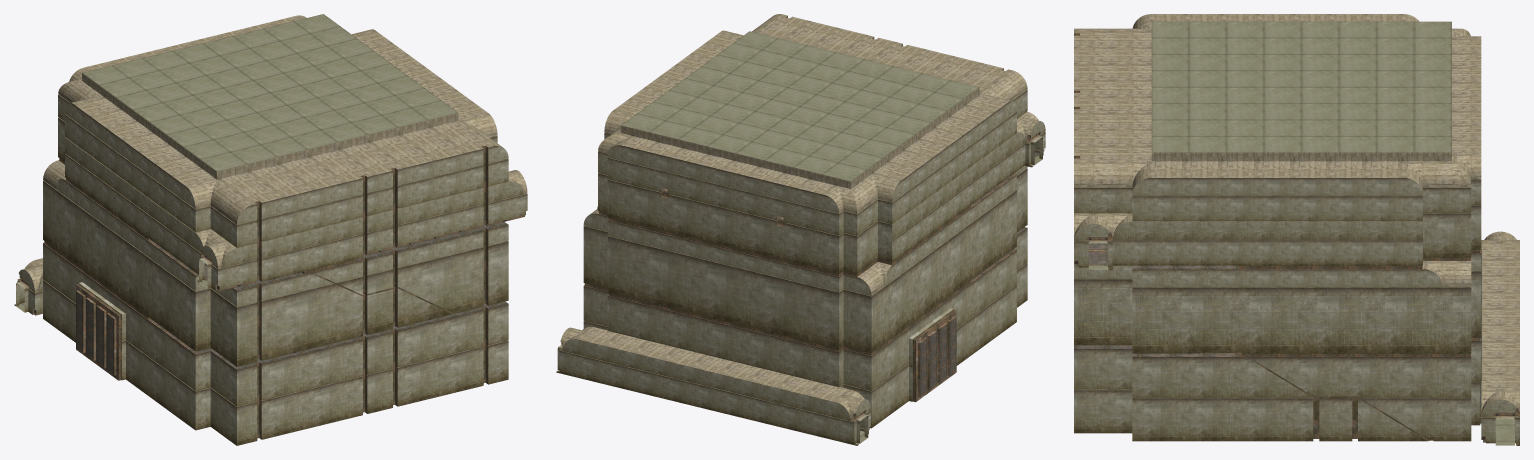
The model's file is poi_all_bunker_allum_mine_r24_storageroom24_mesh_r24.fbx.
The picture shows the model from 3 angles, left to right: view 1: azimuth 30°, elevation 25°; view 2: azimuth 150°, elevation 25°; view 3: azimuth 270°, elevation 25°; orthographic projection. The views are drawn at different scales.
Visible parts, largest first — view 1: mesh_node; view 2: mesh_node; view 3: mesh_node.
Boxes of the visible parts, x1,y1,x2,y2 form: mesh_node: [14, 14, 527, 445]; mesh_node: [556, 14, 1045, 445]; mesh_node: [1074, 14, 1519, 445].
Size of the model in its own units: 42.2 by 31.1 by 46.
